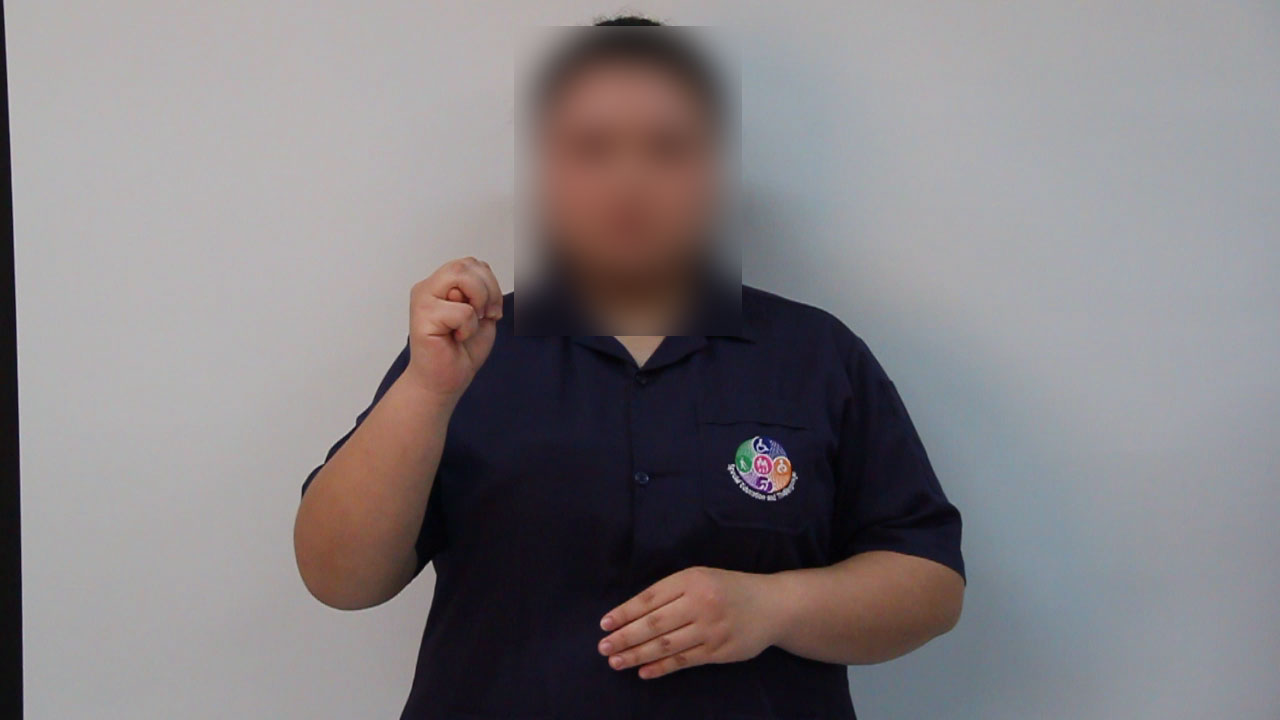mor: (397, 232, 521, 393)
